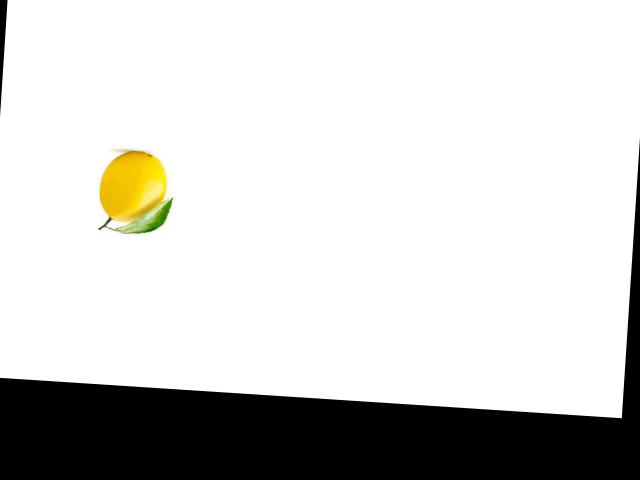lemon: (93, 146, 173, 234)
